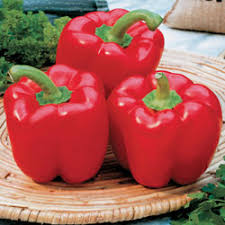bell pepper: (92, 52, 224, 185), (5, 62, 123, 198), (60, 5, 171, 87)
